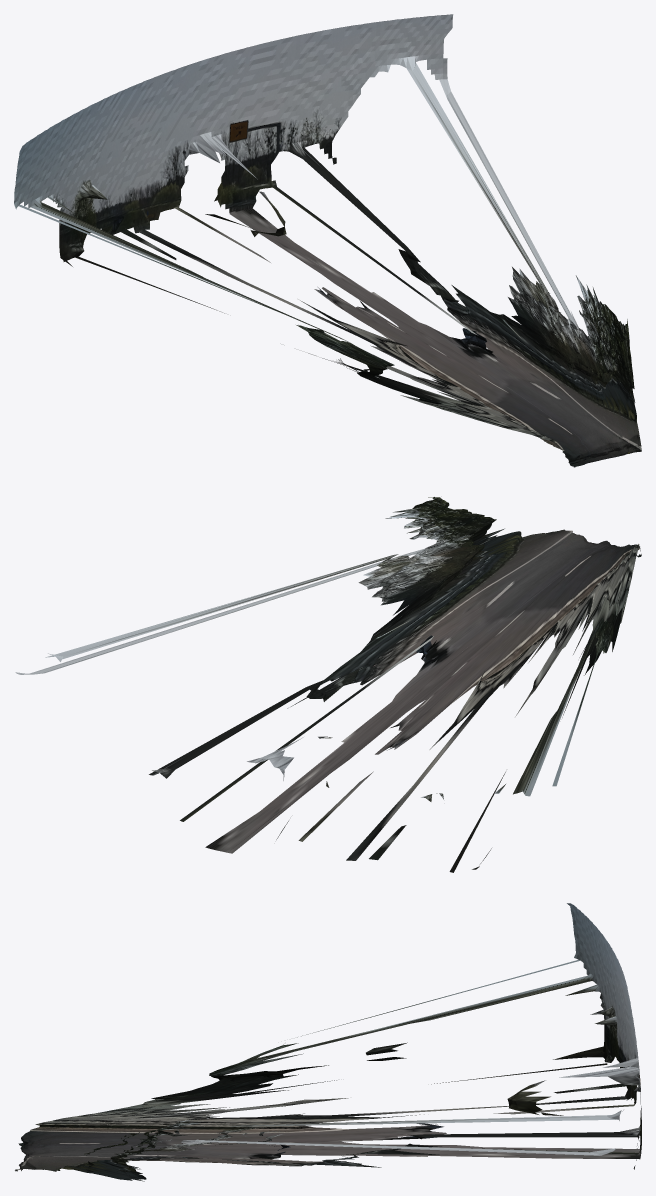
3 renders of one model, top to bottom at view 1: azimuth 30°, elevation 25°; view 2: azimuth 150°, elevation 25°; view 3: azimuth 270°, elevation 25°, orthographic. The views are drawn at different scales.
Parts seen in each view (by area): view 1: defaultobject; view 2: defaultobject; view 3: defaultobject.
Boxes of the visible parts, x1,y1,x2,y2 form: defaultobject: (14,14,641,467); defaultobject: (15,497,641,872); defaultobject: (15,903,641,1181).
Bounding box in the file's own units: 33.34 × 11.77 × 44.63.
1 material, 1 textured.
